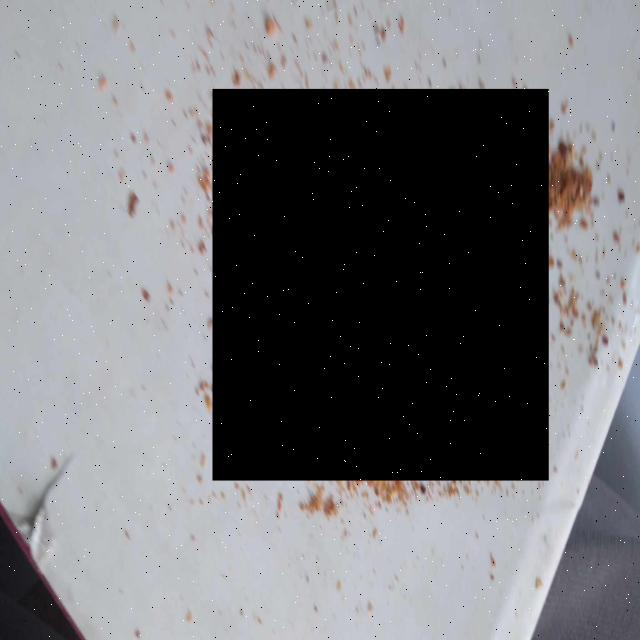Chili_Pepper: (212, 89, 548, 481)
